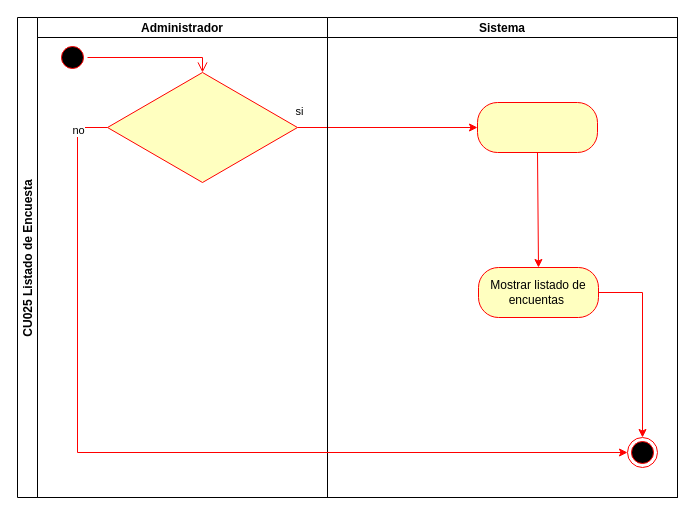
The diagram is 695 pixels wide and 515 high, and some of its shapes have lost their labels. The shapes that lost their labels are listed below. From the top down, each one's centre as x and y in pixels, then its label:
[202,127]: Pulsa el apartado "Encuenta"
[537,127]: Mostrar apartado
